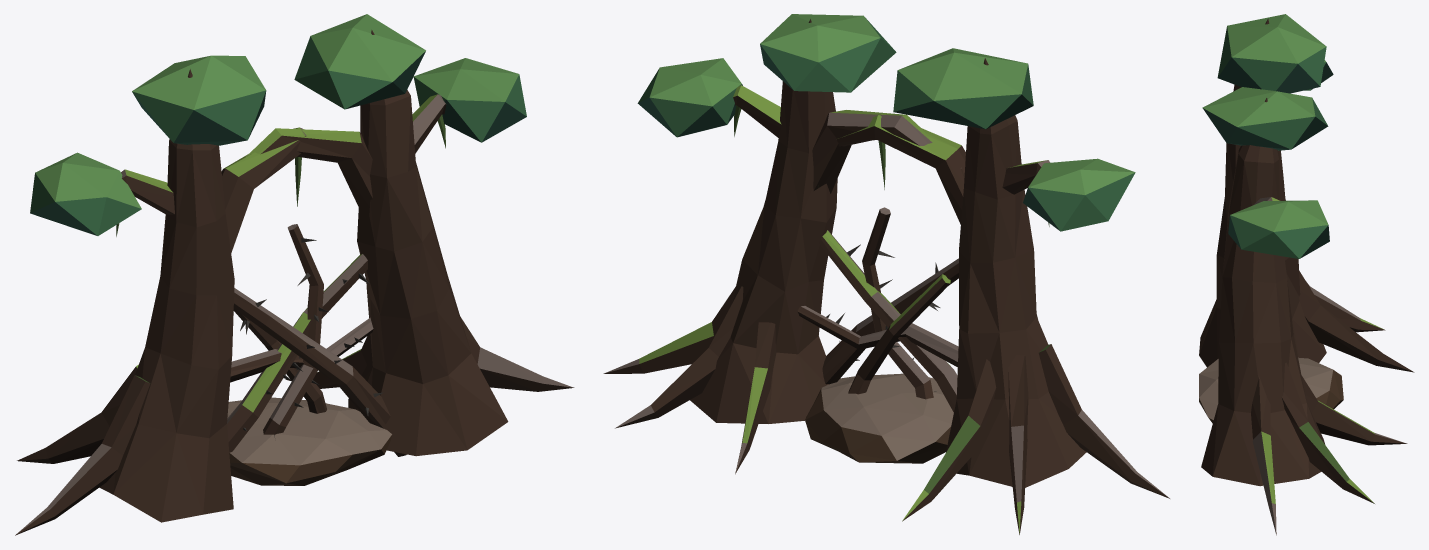
Rendered from SM_Gate_Thorns.fbx.
The picture shows the model from 3 angles, left to right: view 1: azimuth 30°, elevation 25°; view 2: azimuth 150°, elevation 25°; view 3: azimuth 270°, elevation 25°; orthographic projection. The views are drawn at different scales.
Visible parts, largest first — view 1: SM_Gate_Thorns; view 2: SM_Gate_Thorns; view 3: SM_Gate_Thorns.
Boxes of the visible parts, x1=… form: SM_Gate_Thorns: x1=15, y1=14, x2=574, y2=535; SM_Gate_Thorns: x1=603, y1=14, x2=1169, y2=534; SM_Gate_Thorns: x1=1199, y1=14, x2=1414, y2=535.
Bounding box in the file's own units: 10.99 × 7.89 × 4.21.
